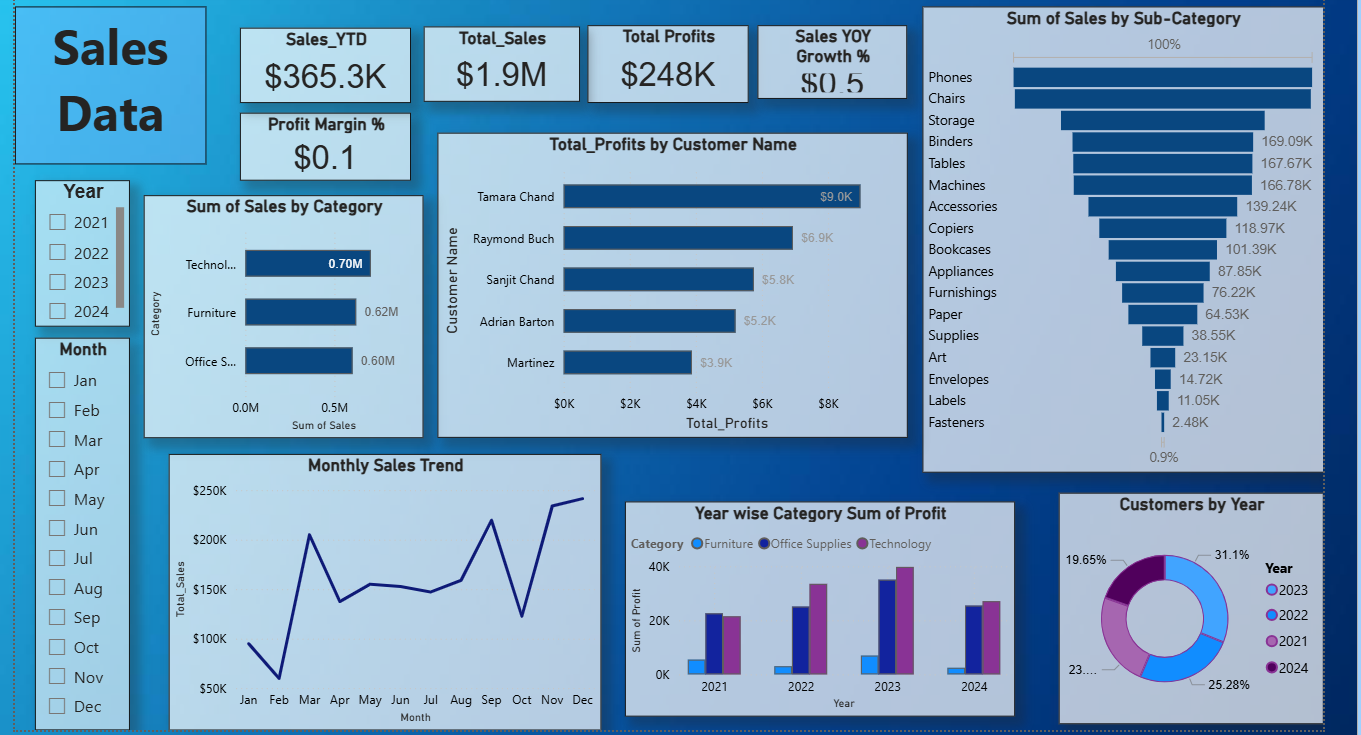

Layout of this report page (visuals, bound fields, positions):
{"tool":"powerbi","page":{"name":"DashBoard","canvas":[1280,720],"ordinal":0},"visuals":[{"type":"card","title":"Total Profits","fields":{"Values":["Sales.Total_Profits"]},"box":[560.1,30.6,157.7,75.8],"z":0},{"type":"card","title":"Profit Margin %","fields":{"Values":["Sales.Profit_Margin"]},"box":[220.1,116.2,167.5,66],"z":1000},{"type":"lineChart","title":"Monthly Sales Trend","fields":{"Category":["Date Table.Month"],"Y":["Sales.Total_Sales"]},"box":[150.4,450,423.1,270.2],"z":2000},{"type":"card","title":"Sales_YTD","fields":{"Values":["Date Table.Sales YTD"]},"box":[220.1,33,167.5,73.4],"z":3000},{"type":"card","title":"Sales YOY Growth %","fields":{"Values":["Date Table.Sales_YoY"]},"box":[726.4,30.6,146.7,72.1],"z":4000},{"type":"donutChart","title":" Customers by Year","fields":{"Y":["Sales.Customer Name"],"Category":["Date Table.Year"]},"box":[1021.1,487.9,259.2,226.2],"z":5000},{"type":"funnel","fields":{"Y":["Sales.Sales"],"Category":["Sales.Sub-Category"]},"box":[887.8,12.2,392.5,456.1],"z":6000},{"type":"clusteredColumnChart","title":" Year wise Category Sum of Profit","fields":{"Category":["Sales.Year"],"Series":["Sales.Category"],"Y":["Sales.Profit"]},"box":[596.7,496.5,381.5,210.3],"z":7000},{"type":"barChart","fields":{"Category":["Sales.Customer Name"],"Y":["Sales.Total_Profits"]},"box":[413.3,135.7,459.8,298.4],"z":8000},{"type":"slicer","title":"Year","fields":{"Values":["Sales.Year"]},"box":[19.6,182.2,92.9,143.1],"z":9000},{"type":"slicer","title":"Month","fields":{"Values":["Date Table.Month"]},"box":[19.6,336.3,92.9,384],"z":10000},{"type":"card","title":"Total_Sales","fields":{"Values":["Sales.Total_Sales"]},"box":[399.9,31.8,152.9,73.4],"z":11000},{"type":"clusteredBarChart","fields":{"Y":["Sales.Sales"],"Category":["Sales.Category"]},"box":[126,196.9,273.9,237.2],"z":12000},{"type":"textbox","box":[0,12.2,187.1,154.1],"z":13000}]}

Visuals, with their boxes in screenshot pixels (x1, y1, x2, y2):
"Total Profits" card: region(595, 27, 753, 103)
"Profit Margin %" card: region(253, 113, 421, 180)
"Monthly Sales Trend" lineChart: region(183, 449, 608, 720)
"Sales_YTD" card: region(253, 30, 421, 103)
"Sales YOY Growth %" card: region(762, 27, 909, 100)
" Customers by Year" donutChart: region(1058, 487, 1318, 714)
funnel - Sales.Sales x Sales.Sub-Category: region(924, 9, 1318, 467)
" Year wise Category Sum of Profit" clusteredColumnChart: region(632, 495, 1015, 707)
barChart - Sales.Customer Name x Sales.Total_Profits: region(447, 133, 909, 433)
"Year" slicer: region(52, 180, 145, 323)
"Month" slicer: region(52, 334, 145, 720)
"Total_Sales" card: region(434, 28, 587, 102)
clusteredBarChart - Sales.Sales x Sales.Category: region(159, 194, 434, 433)
textbox: region(32, 9, 220, 164)
